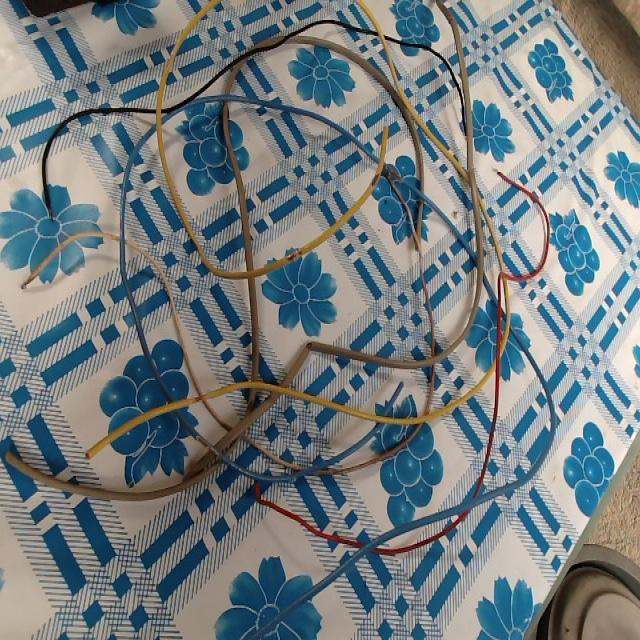-: (192, 431, 224, 460), (42, 200, 62, 225), (186, 387, 212, 405), (283, 244, 305, 265), (367, 165, 384, 188), (2, 447, 17, 469), (19, 272, 34, 293), (491, 163, 504, 184), (81, 442, 93, 462), (301, 336, 315, 353)
